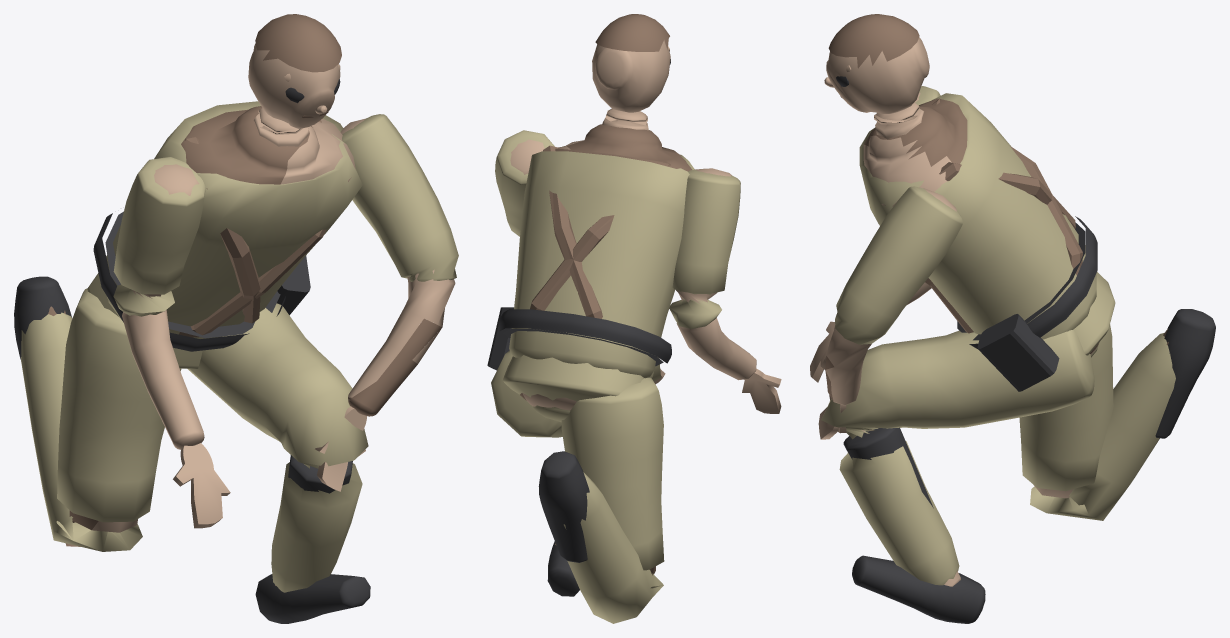
Rendered from tactical-shooter-hill-town-heavy-gunner-planting-5de4e61b__27586.glb.
The picture shows the model from 3 angles, left to right: view 1: azimuth 30°, elevation 25°; view 2: azimuth 150°, elevation 25°; view 3: azimuth 270°, elevation 25°; orthographic projection. The views are drawn at different scales.
Visible parts, largest first — view 1: heavy-gunner-planting; view 2: heavy-gunner-planting; view 3: heavy-gunner-planting.
Part boxes in pixels (bbox=[...]): heavy-gunner-planting: bbox=[14, 14, 458, 623]; heavy-gunner-planting: bbox=[487, 14, 781, 623]; heavy-gunner-planting: bbox=[810, 14, 1215, 623].
Size of the model in its own units: 0.6693 by 1.39 by 0.8614.
